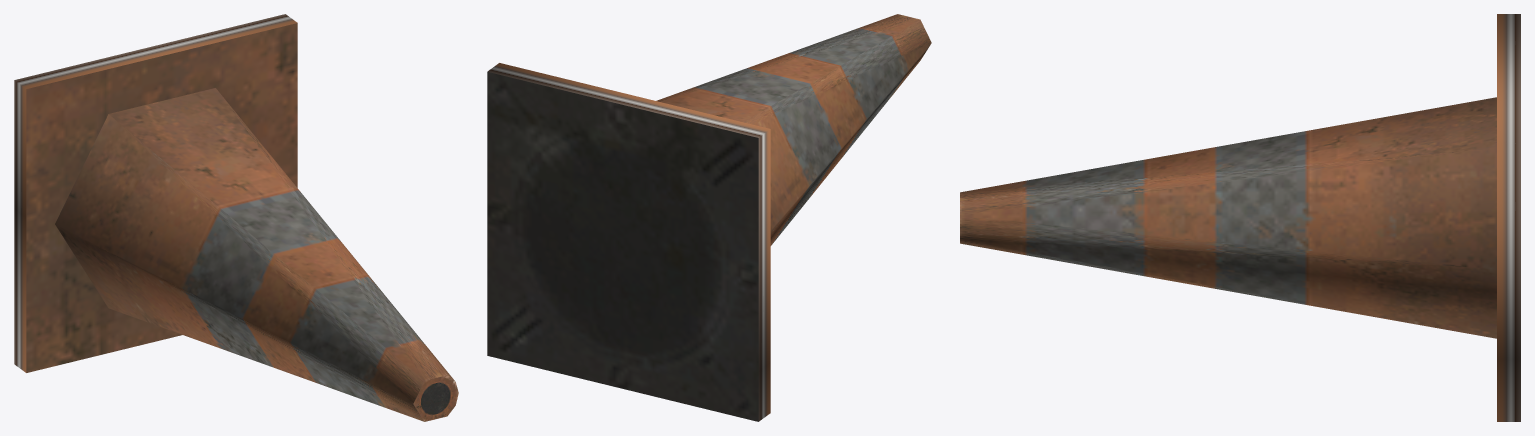
The model's file is p_us_parkingcone_LOD2.obj.
The picture shows the model from 3 angles, left to right: view 1: azimuth 30°, elevation 25°; view 2: azimuth 150°, elevation 25°; view 3: azimuth 270°, elevation 25°; orthographic projection. The views are drawn at different scales.
Parts seen in each view (by area): view 1: mtl_p_us_parkingcone; view 2: mtl_p_us_parkingcone; view 3: mtl_p_us_parkingcone.
Part boxes in pixels (x1,y1,x2,y2): mtl_p_us_parkingcone: (14,14,458,421); mtl_p_us_parkingcone: (487,14,931,421); mtl_p_us_parkingcone: (960,14,1520,421).
Size of the model in its own units: 38.4 by 38.4 by 70.15.
